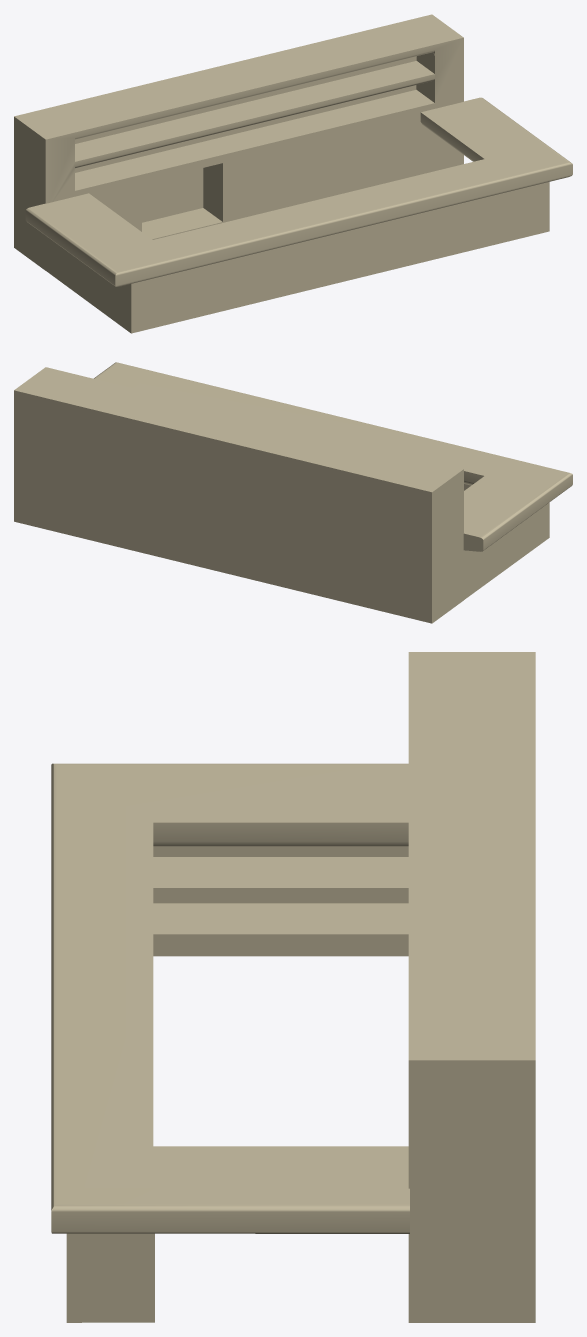
File: bar v.2 (1).fbx
3 views of the same model, one above another, from view 1: azimuth 30°, elevation 25°; view 2: azimuth 150°, elevation 25°; view 3: azimuth 270°, elevation 25° (orthographic). The views are drawn at different scales.
Visible parts, largest first — view 1: pCube15; view 2: pCube15; view 3: pCube15.
Part boxes in pixels (x1,y1,x2,y2): pCube15: (14,14,572,333); pCube15: (14,362,572,623); pCube15: (51,652,535,1322).
Bounding box in the file's own units: 888 × 244 × 407.
